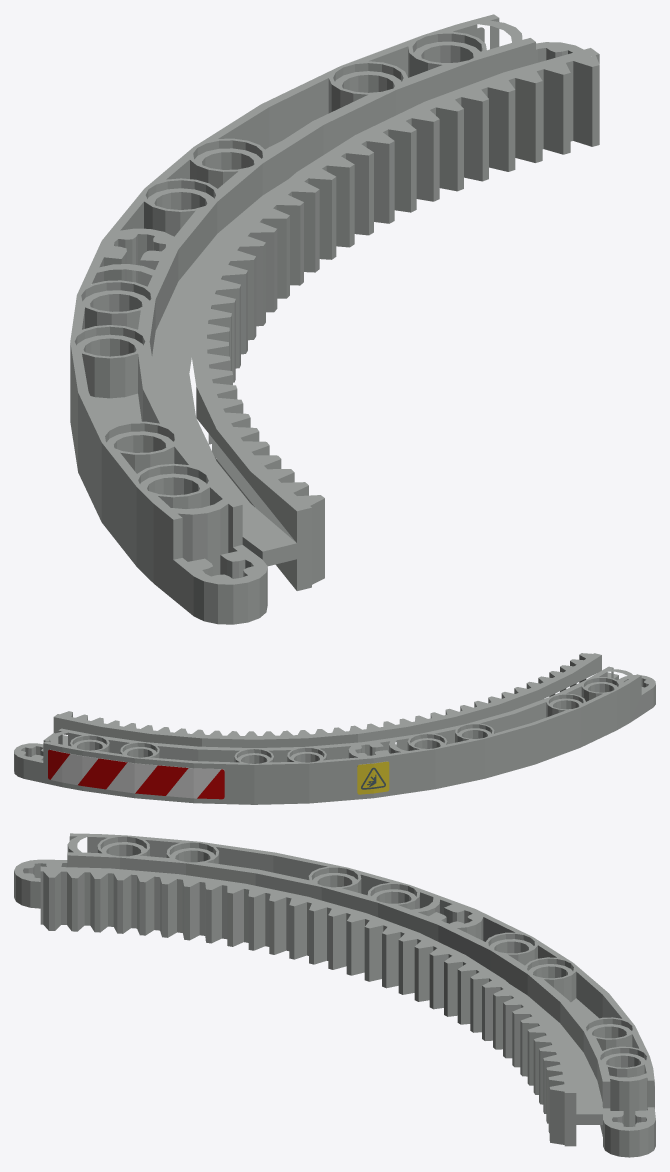
3 renders of one model, top to bottom at view 1: azimuth 30°, elevation 25°; view 2: azimuth 150°, elevation 25°; view 3: azimuth 270°, elevation 25°, orthographic. The views are drawn at different scales.
Parts seen in each view (by area): view 1: world; view 2: world; view 3: world.
Boxes of the visible parts, box(x1,y1,x2,y2) form: world: box(70, 14, 599, 624); world: box(14, 653, 655, 804); world: box(14, 833, 655, 1157).
Size of the model in its own units: 0.0872 by 0.008 by 0.0872.
